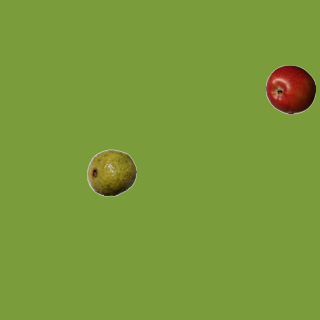Apple Braeburn: (265, 64, 315, 114)
Guava: (86, 147, 136, 197)
